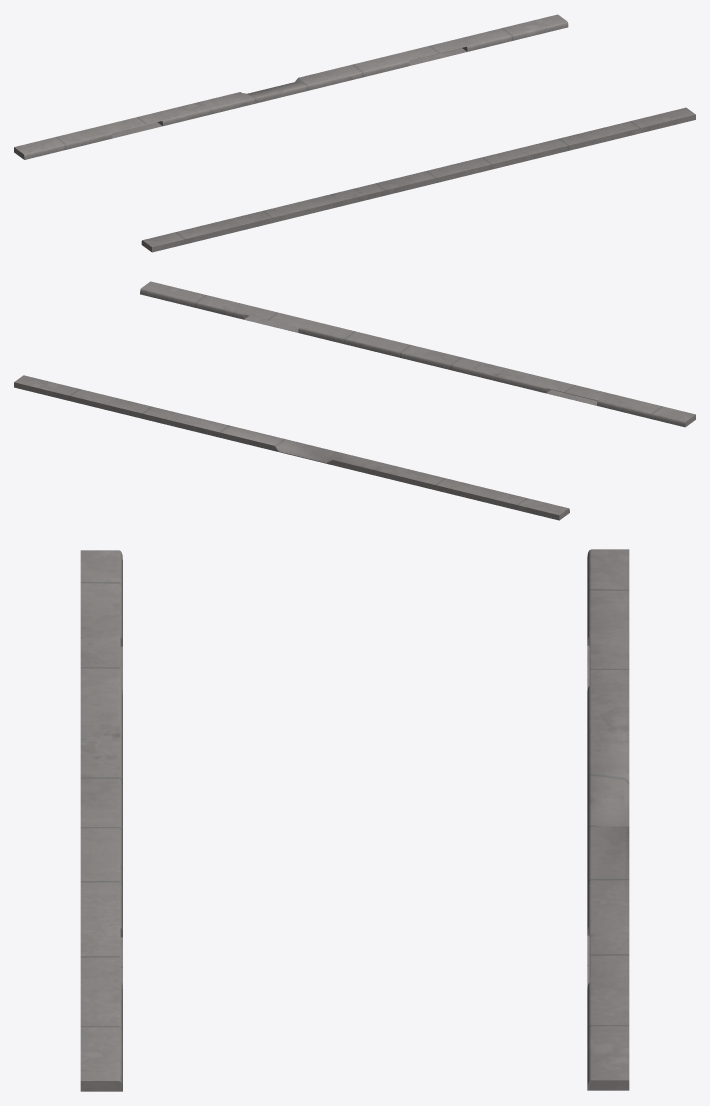
The model's file is Long_SideWalks_W_Slope_Sewer.fbx.
3 views of the same model, one above another, from view 1: azimuth 30°, elevation 25°; view 2: azimuth 150°, elevation 25°; view 3: azimuth 270°, elevation 25° (orthographic). The views are drawn at different scales.
Visible parts, largest first — view 1: Long_SideWalks_W_Slope_Sewer; view 2: Long_SideWalks_W_Slope_Sewer; view 3: Long_SideWalks_W_Slope_Sewer.
Part boxes in pixels (bbox=[...]): Long_SideWalks_W_Slope_Sewer: bbox=[14, 14, 695, 252]; Long_SideWalks_W_Slope_Sewer: bbox=[14, 281, 695, 520]; Long_SideWalks_W_Slope_Sewer: bbox=[80, 549, 629, 1091].
Bounding box in the file's own units: 1301 × 567 × 11.97.
